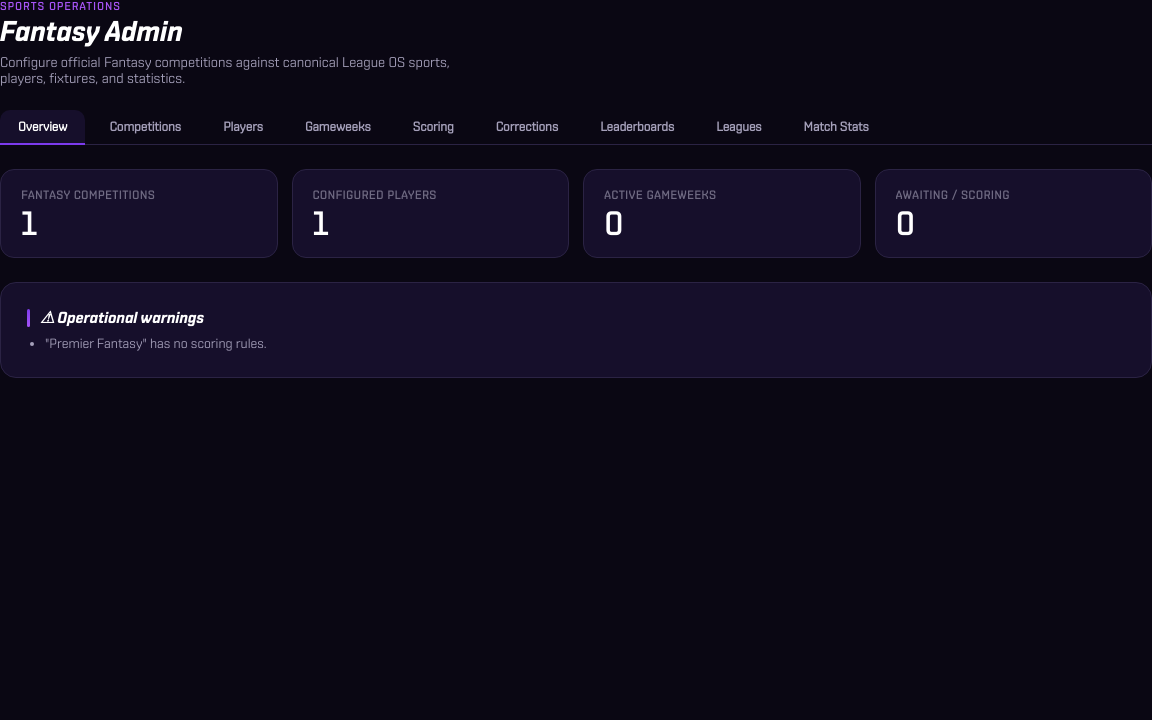
Scenario: FantasyAdminPage editing › renders an API error visibly
This screenshot has width=1152, height=720.
Click the button "Players" at coordinates (243, 127), box [205,110,281,145]
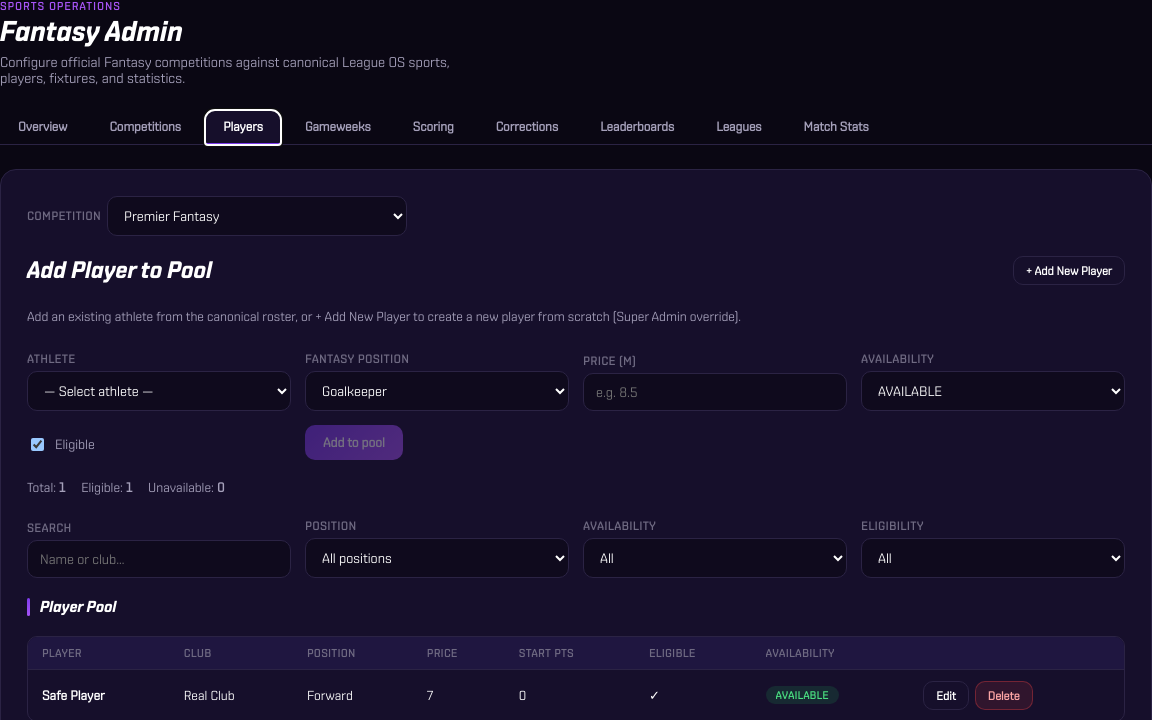
Click the button "Edit" at coordinates (946, 695), box [923,681,969,710]
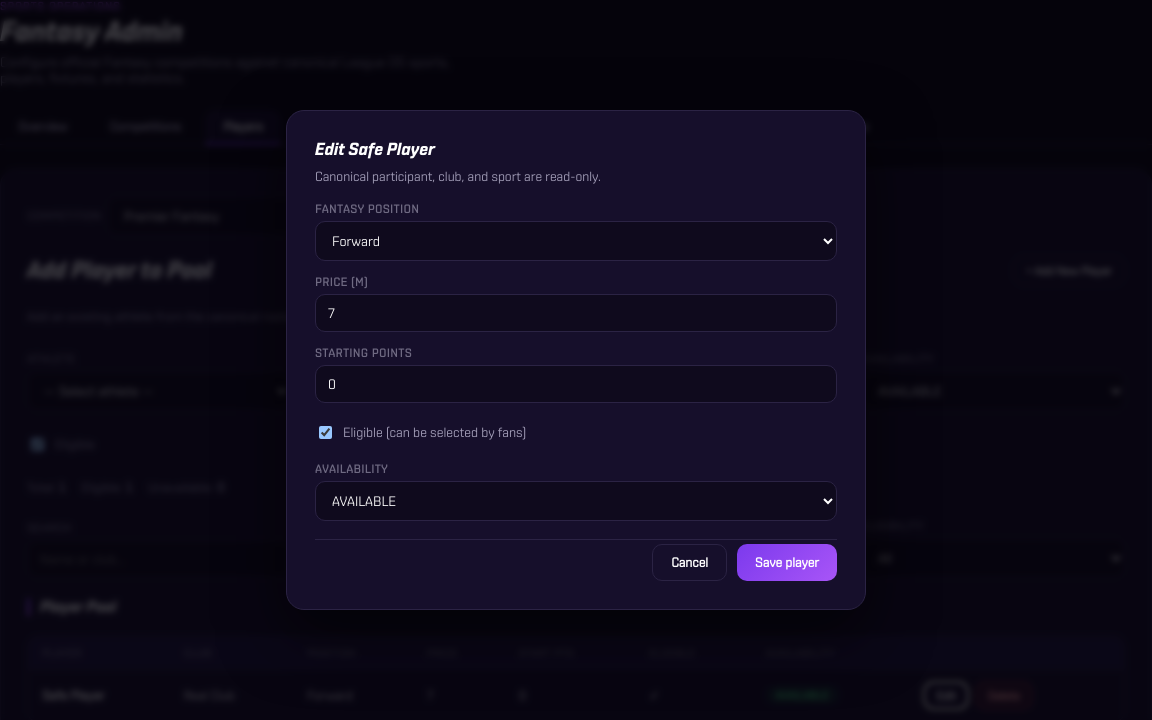
Click the button "Save player" at coordinates (787, 562), box [737,544,837,581]
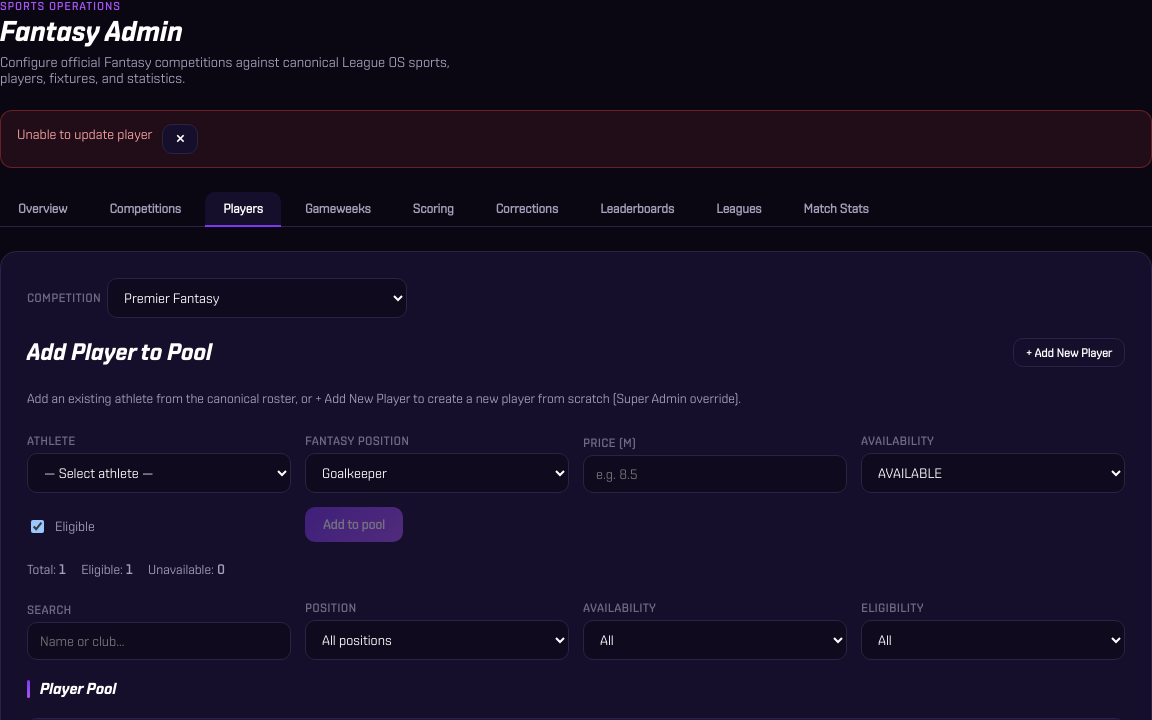
Expected: the message shows "Unable to update player", [17,126,152,142]
